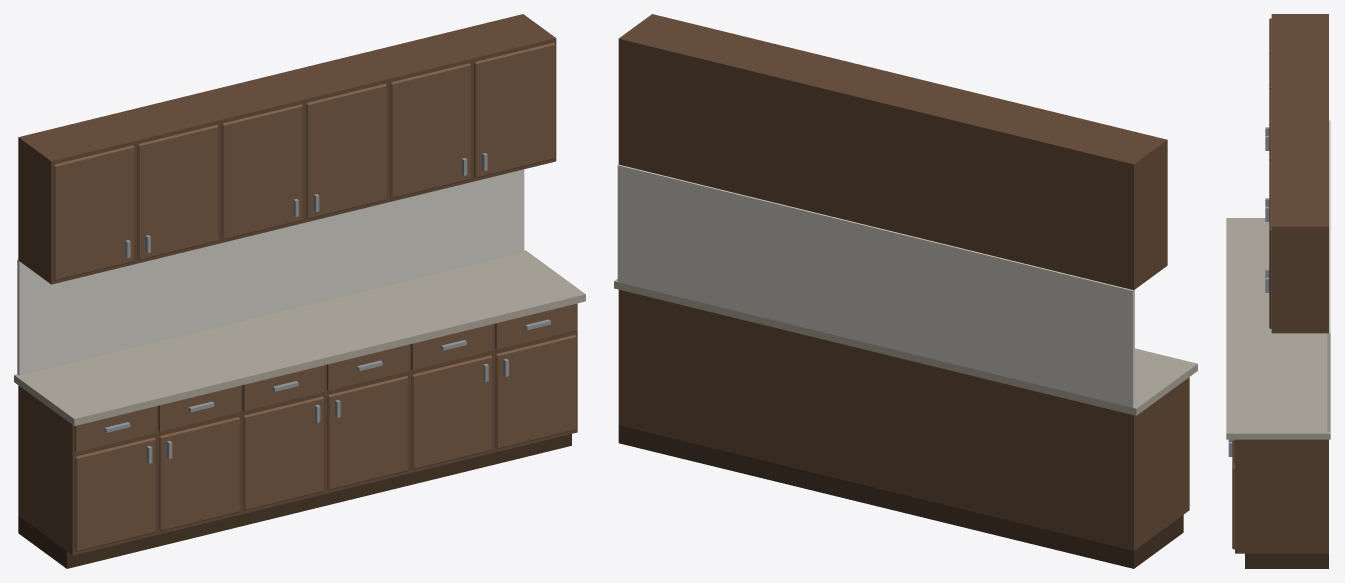
Rendered from plan_travail.glb.
3 views of the same model, side by side, from view 1: azimuth 30°, elevation 25°; view 2: azimuth 150°, elevation 25°; view 3: azimuth 270°, elevation 25° (orthographic). The views are drawn at different scales.
Parts seen in each view (by area): view 1: wall_doors, doors, splashback, worktop, wall_units, base, drawers, plinth, pulls; view 2: wall_units, base, splashback, plinth, worktop; view 3: wall_units, worktop, base, plinth, wall_doors, splashback, doors, wall_knobs_r.
Part boxes in pixels (x1=…): wall_doors: x1=53, y1=42, x2=555, y2=280; doors: x1=74, y1=335, x2=576, y2=551; splashback: x1=17, y1=169, x2=524, y2=375; worktop: x1=14, y1=250, x2=585, y2=425; wall_units: x1=18, y1=14, x2=556, y2=284; base: x1=18, y1=303, x2=577, y2=555; drawers: x1=74, y1=303, x2=577, y2=452; plinth: x1=18, y1=434, x2=571, y2=568; pulls: x1=104, y1=319, x2=550, y2=432; wall_units: x1=618, y1=14, x2=1167, y2=290; base: x1=618, y1=289, x2=1189, y2=550; splashback: x1=617, y1=164, x2=1134, y2=407; plinth: x1=618, y1=425, x2=1183, y2=568; worktop: x1=614, y1=279, x2=1197, y2=415; wall_units: x1=1271, y1=14, x2=1328, y2=333; worktop: x1=1226, y1=218, x2=1330, y2=439; base: x1=1235, y1=439, x2=1328, y2=553; plinth: x1=1245, y1=553, x2=1328, y2=568; wall_doors: x1=1269, y1=18, x2=1271, y2=328; splashback: x1=1327, y1=120, x2=1330, y2=431; doors: x1=1232, y1=463, x2=1234, y2=549; wall_knobs_r: x1=1265, y1=136, x2=1269, y2=292.
Bounding box in the file's own units: 3.04 × 2.25 × 0.62.
Materials: 6 (6 with a texture image).
